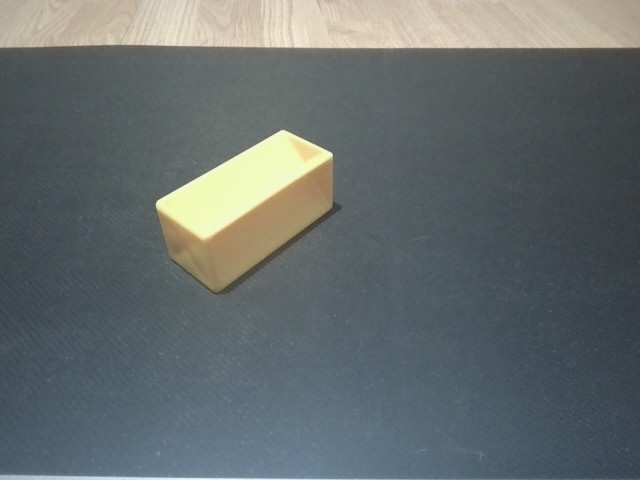YellowSample: (153, 125, 336, 295)
